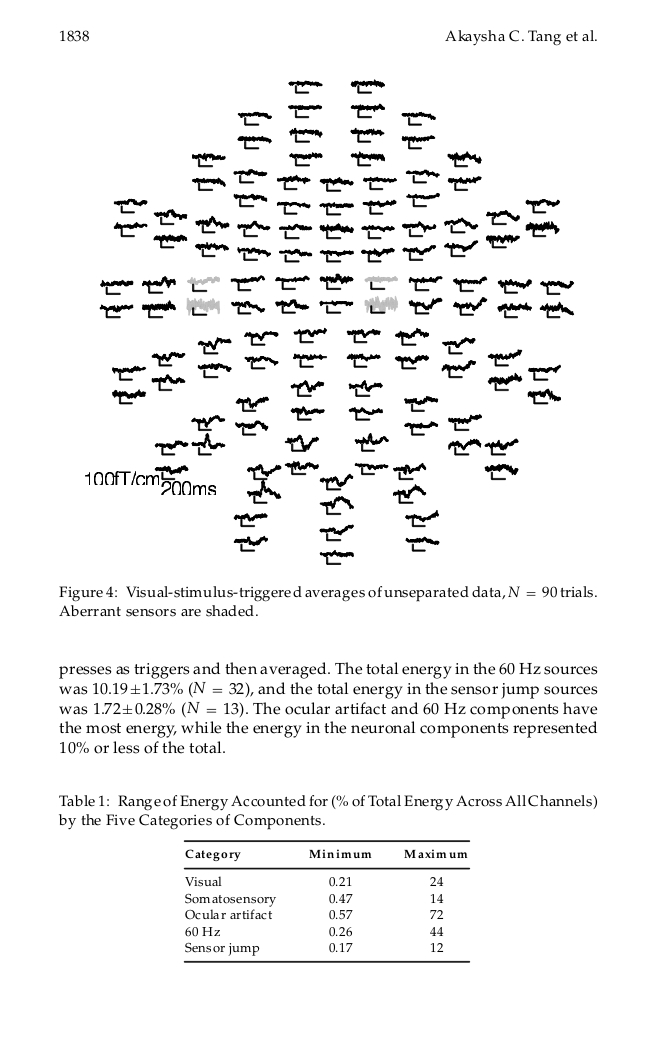Table: (183, 840, 470, 962)
figure: (85, 79, 573, 564)
